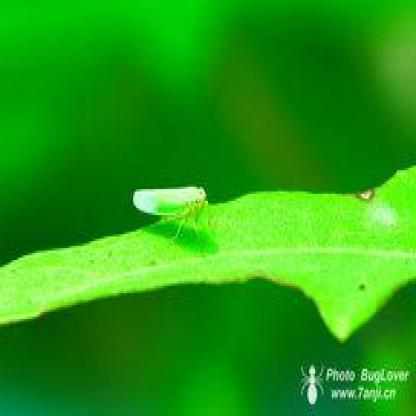Green-Leafhopper: (130, 184, 212, 243)
